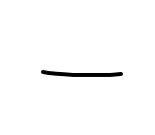minus: (38, 67, 123, 82)
